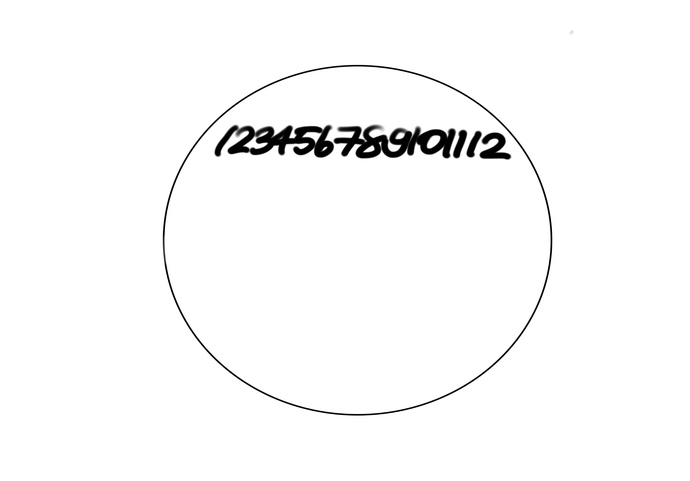eight: (360, 118, 387, 161)
eleven: (446, 122, 468, 161)
five: (294, 125, 317, 155)
four: (275, 120, 293, 153)
nine: (383, 125, 412, 160)
one: (219, 122, 231, 154)
seven: (334, 119, 360, 158)
six: (317, 121, 335, 157)
ten: (410, 121, 444, 160)
three: (256, 122, 275, 158)
twelve: (471, 123, 512, 160)
two: (237, 122, 254, 158)
